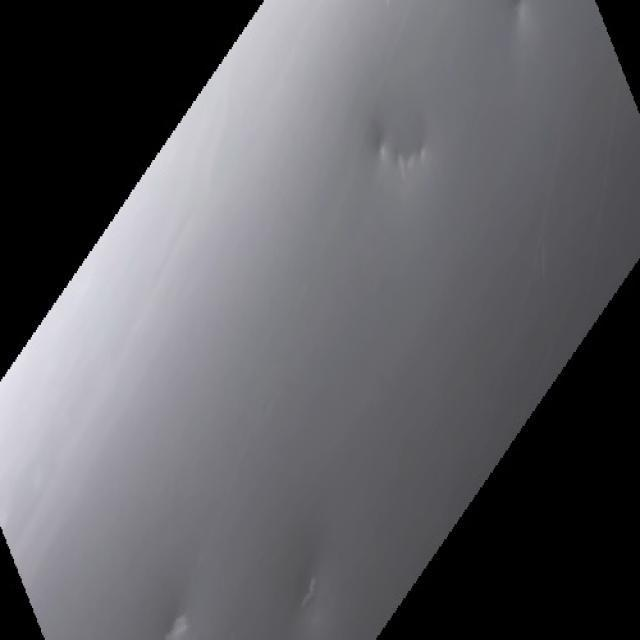dent: (368, 116, 461, 225), (298, 537, 332, 606)
